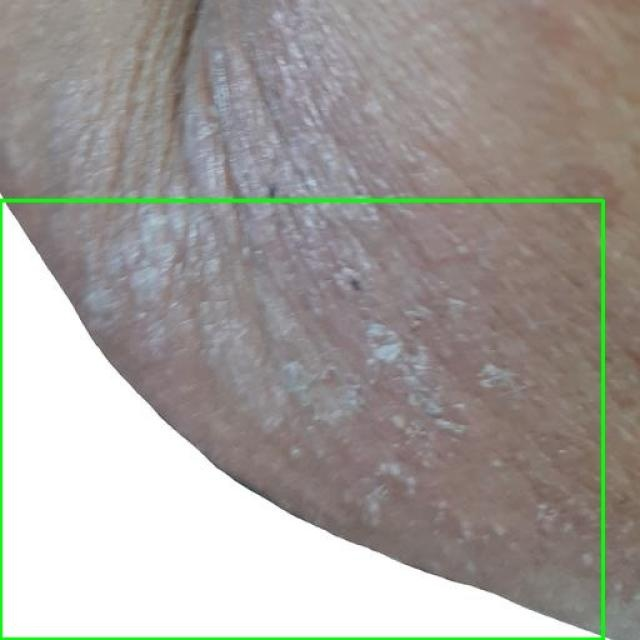Tinea Corporis: (0, 200, 602, 639)
